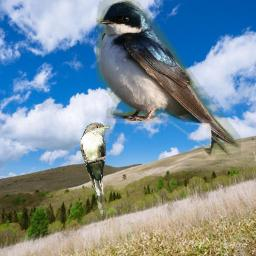Cuckoo: (80, 122, 110, 216)
Swallow: (96, 0, 241, 164)
